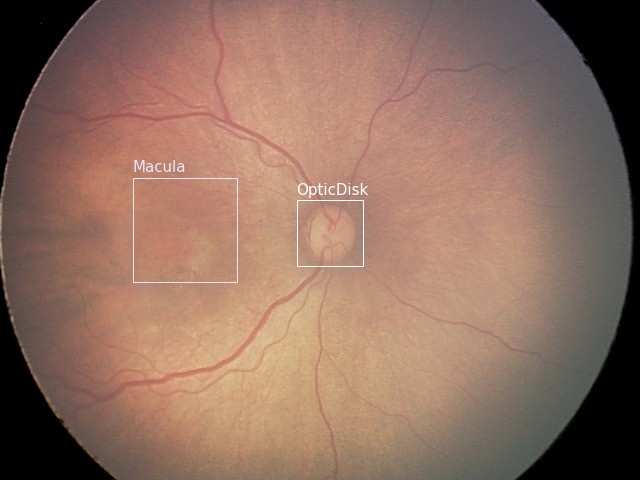Macula: (132, 177, 236, 281)
OpticDisk: (296, 199, 362, 265)
